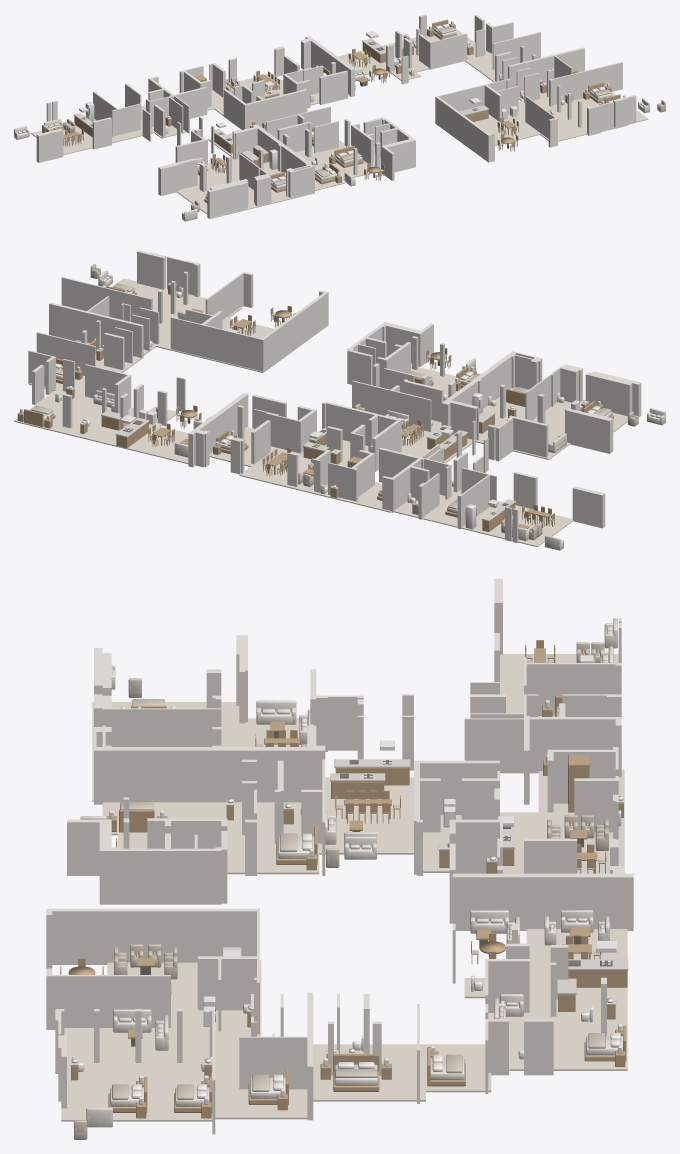
Rendered from alheli-pa.glb.
3 renders of one model, top to bottom at view 1: azimuth 30°, elevation 25°; view 2: azimuth 150°, elevation 25°; view 3: azimuth 270°, elevation 25°, orthographic. The views are drawn at different scales.
Visible parts, largest first — view 1: walls, floor_u10_0, floor_u6_0, floor_u9_0, floor_u5_0, floor_u7_0, floor_u8_0; view 2: walls, floor_u9_0, floor_u8_0, floor_u10_0, floor_u7_0, floor_u6_0, floor_u5_0; view 3: walls, floor_u10_0, floor_u9_0, floor_u5_0, floor_u8_0, floor_u6_0, floor_u7_0, body.007.
Boxes of the visible parts, x1,y1,x2,y2 form: walls: (36,14,636,218); floor_u10_0: (434,89,648,150); floor_u6_0: (176,157,313,218); floor_u9_0: (338,29,495,82); floor_u5_0: (208,126,380,190); floor_u7_0: (31,105,185,155); floor_u8_0: (207,73,349,115); walls: (28,250,641,542); floor_u9_0: (14,353,188,463); floor_u8_0: (209,426,391,512); floor_u10_0: (112,278,308,372); floor_u7_0: (393,480,573,547); floor_u6_0: (451,387,627,459); floor_u5_0: (401,363,472,463); walls: (46,579,633,1134); floor_u10_0: (61,960,307,1121); floor_u9_0: (313,929,627,1101); floor_u5_0: (102,777,413,903); floor_u8_0: (423,769,624,873); floor_u6_0: (92,702,301,801); floor_u7_0: (500,654,618,716); body.007: (568,970,627,987).
Size of the model in its own units: 814 by 40 by 396.
